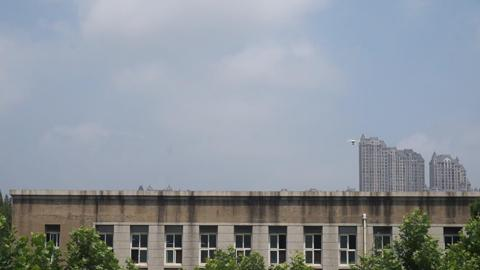UAV: (347, 139, 360, 146)
